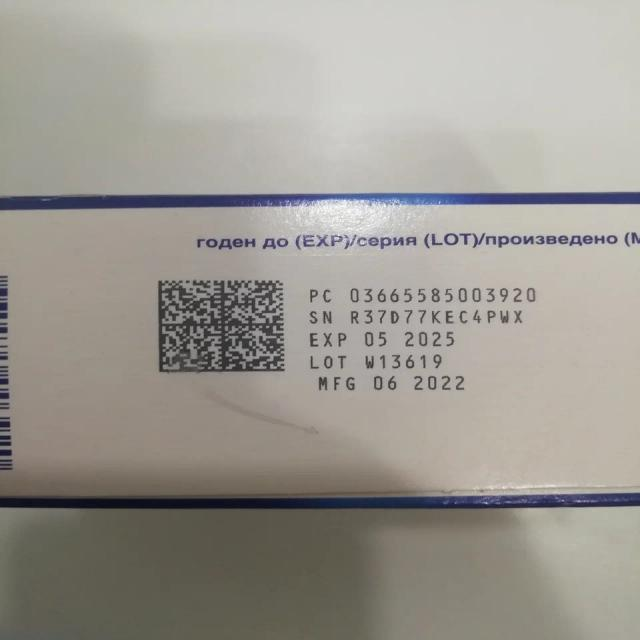datamatrix: (156, 277, 290, 376)
